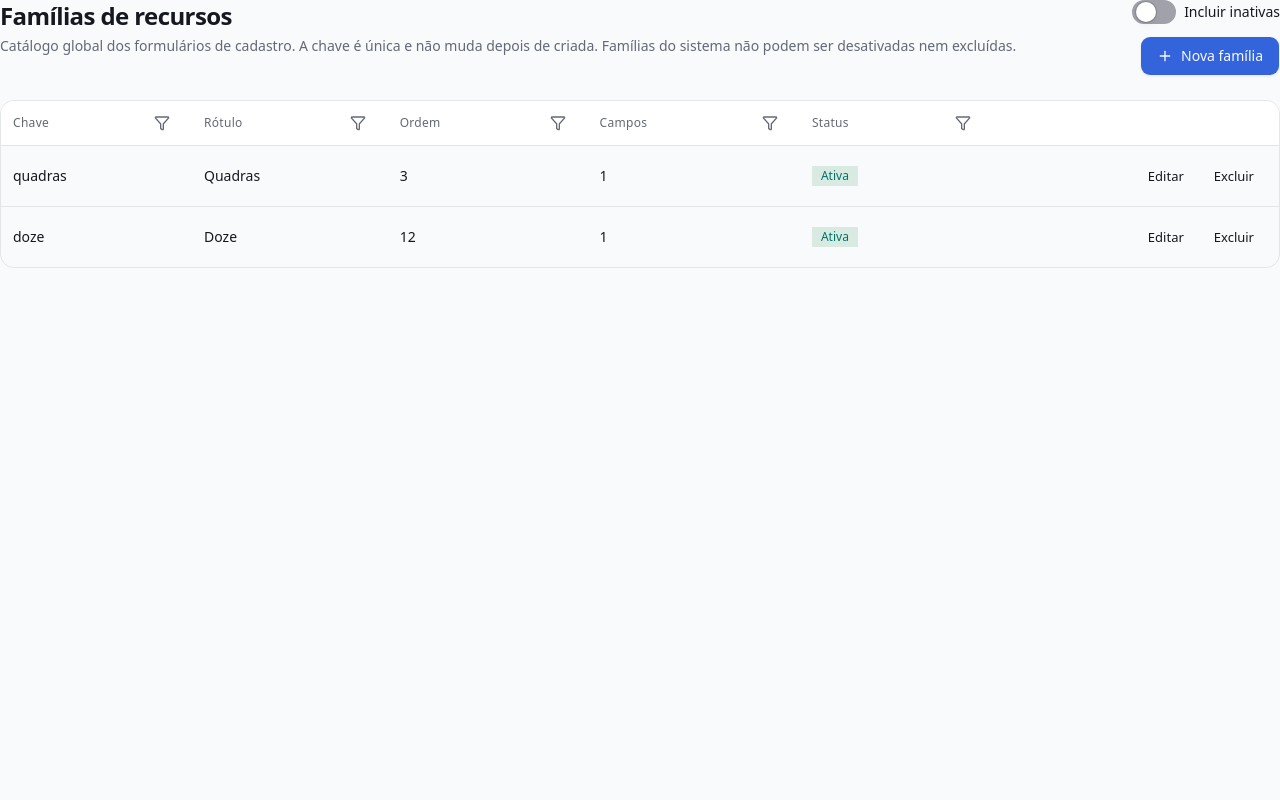
Test case: AdminAssetFamiliesPage › filters the order column by the digits typed, not a numeric range
This screenshot has width=1280, height=800.
Expected: the text "Doze" is shown, [192,206,388,266]
Click the button named "Filtrar" next to "Ordem": click(558, 123) [540,105,576,141]
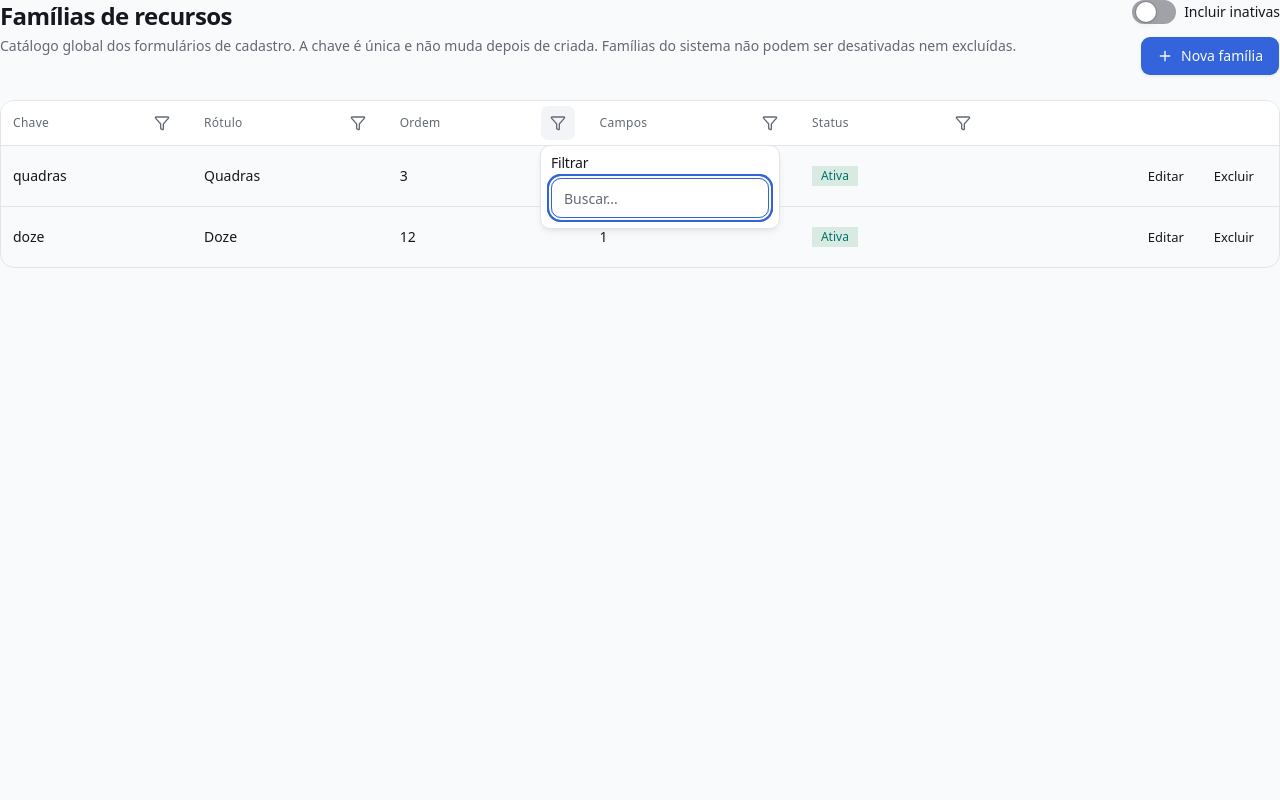
In the field with placeholder "Buscar...": (660, 198) [551,178,769,218], type "12"
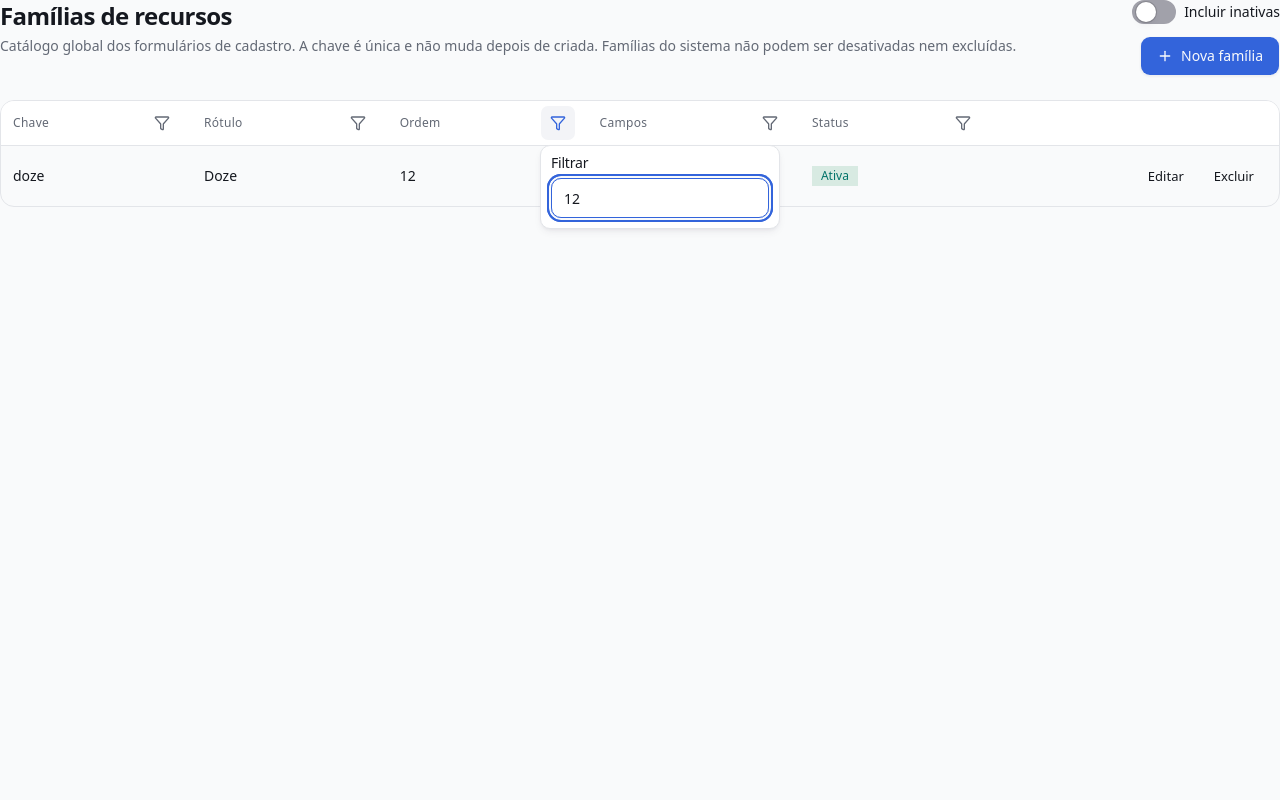
Expected: the text "Doze" is shown, [192,145,388,206]
Result: the text "quadras" is gone
